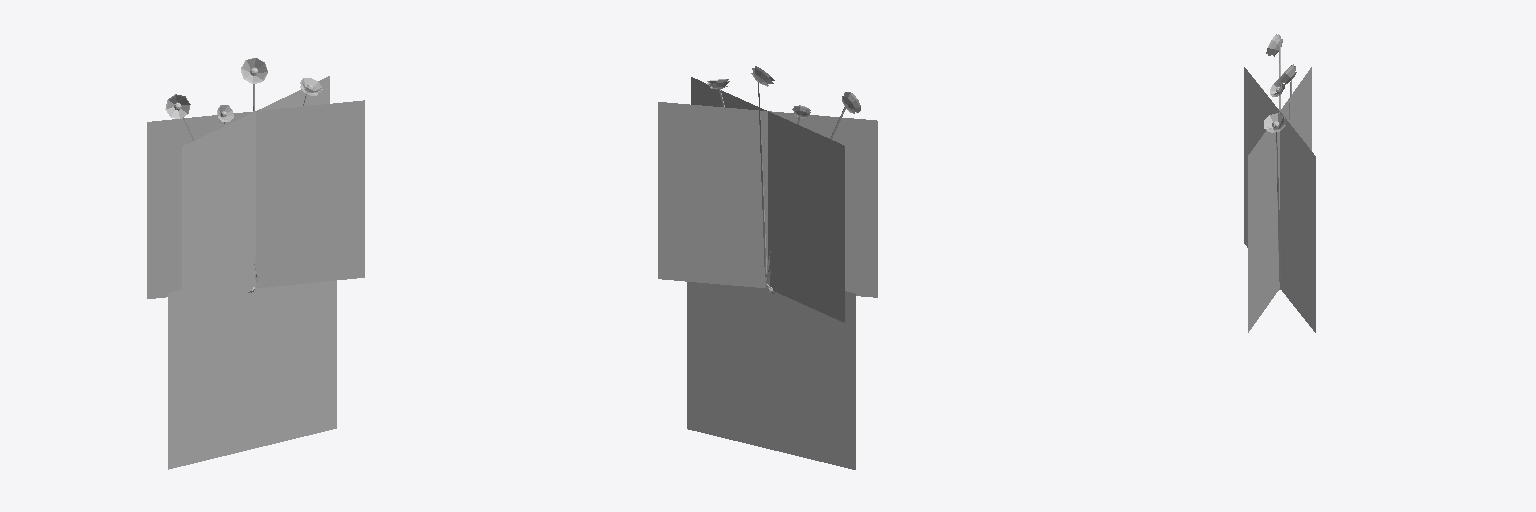
File: MODEL_ranunculusGrownFlowers_G4_1.obj
3 views of the same model, side by side, from view 1: azimuth 30°, elevation 25°; view 2: azimuth 150°, elevation 25°; view 3: azimuth 270°, elevation 25° (orthographic).
Visible parts, largest first — view 1: geo_plantFlowers_low1 geo_roots_plane3, geo_plantFlowers_low1 geo_roots_plane, geo_roots_plane2 geo_plantFlowers_low1, geo_plantFlowers_low1 flower; view 2: geo_plantFlowers_low1 geo_roots_plane, geo_roots_plane2 geo_plantFlowers_low1, geo_plantFlowers_low1 geo_roots_plane3, geo_plantFlowers_low1; view 3: geo_roots_plane2 geo_plantFlowers_low1, geo_plantFlowers_low1 geo_roots_plane3.
Part boxes in pixels (bbox=[...]): geo_plantFlowers_low1 geo_roots_plane3: bbox=[147, 100, 364, 298]; geo_plantFlowers_low1 geo_roots_plane: bbox=[168, 281, 336, 469]; geo_roots_plane2 geo_plantFlowers_low1: bbox=[182, 76, 329, 323]; geo_plantFlowers_low1 flower: bbox=[241, 58, 267, 83]; geo_plantFlowers_low1 geo_roots_plane: bbox=[687, 272, 855, 469]; geo_roots_plane2 geo_plantFlowers_low1: bbox=[658, 102, 877, 297]; geo_plantFlowers_low1 geo_roots_plane3: bbox=[691, 77, 844, 322]; geo_plantFlowers_low1: bbox=[719, 82, 846, 293]; geo_roots_plane2 geo_plantFlowers_low1: bbox=[1244, 67, 1315, 332]; geo_plantFlowers_low1 geo_roots_plane3: bbox=[1248, 67, 1311, 332].
Size of the model in its own units: 22.62 by 44.91 by 7.52.